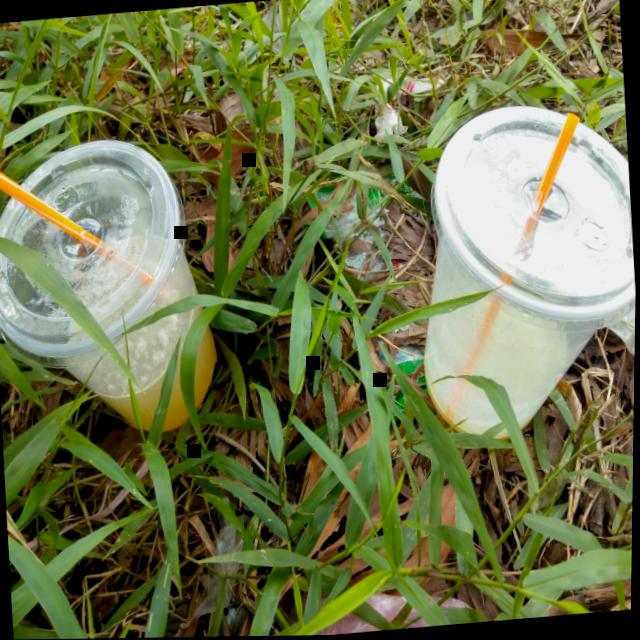Disposable plastic cup: (424, 107, 636, 440), (0, 139, 217, 432)
Plastic film: (194, 507, 244, 618), (374, 77, 443, 145), (608, 307, 636, 357)
Plastic lid: (430, 107, 636, 333), (0, 139, 185, 368)
Plastic straw: (445, 113, 579, 420), (0, 171, 151, 283)
